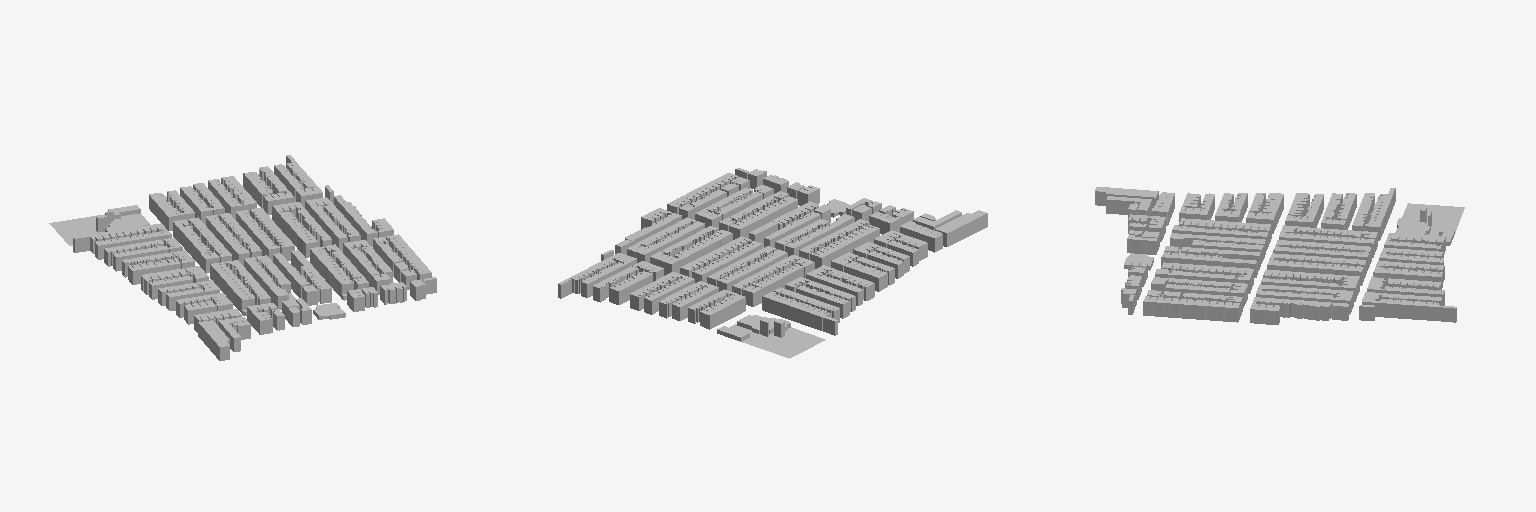
The picture shows the model from 3 angles: view 1: azimuth 30°, elevation 25°; view 2: azimuth 150°, elevation 25°; view 3: azimuth 270°, elevation 25°; orthographic projection.
Parts seen in each view (by area): view 1: Areas; view 2: Areas; view 3: Areas.
Part boxes in pixels (x1,y1,x2,y2): Areas: (49,155,436,360); Areas: (558,168,987,358); Areas: (1095,187,1464,324).
Bounding box in the file's own units: 378 × 20 × 475.